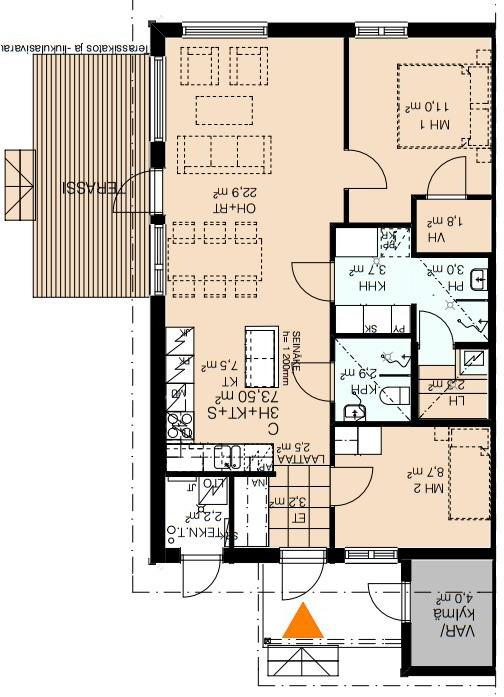bathroom: (336, 339, 409, 425)
door: (109, 166, 171, 221), (277, 544, 330, 602), (337, 145, 392, 194), (176, 551, 227, 601), (362, 580, 416, 626), (287, 258, 340, 303), (422, 154, 470, 202), (326, 464, 376, 510), (290, 358, 339, 403), (416, 307, 457, 349)
perimeter: (150, 19, 495, 674)
window: (174, 18, 276, 46), (144, 49, 170, 150), (142, 217, 170, 302), (349, 18, 417, 41), (341, 543, 404, 564)
